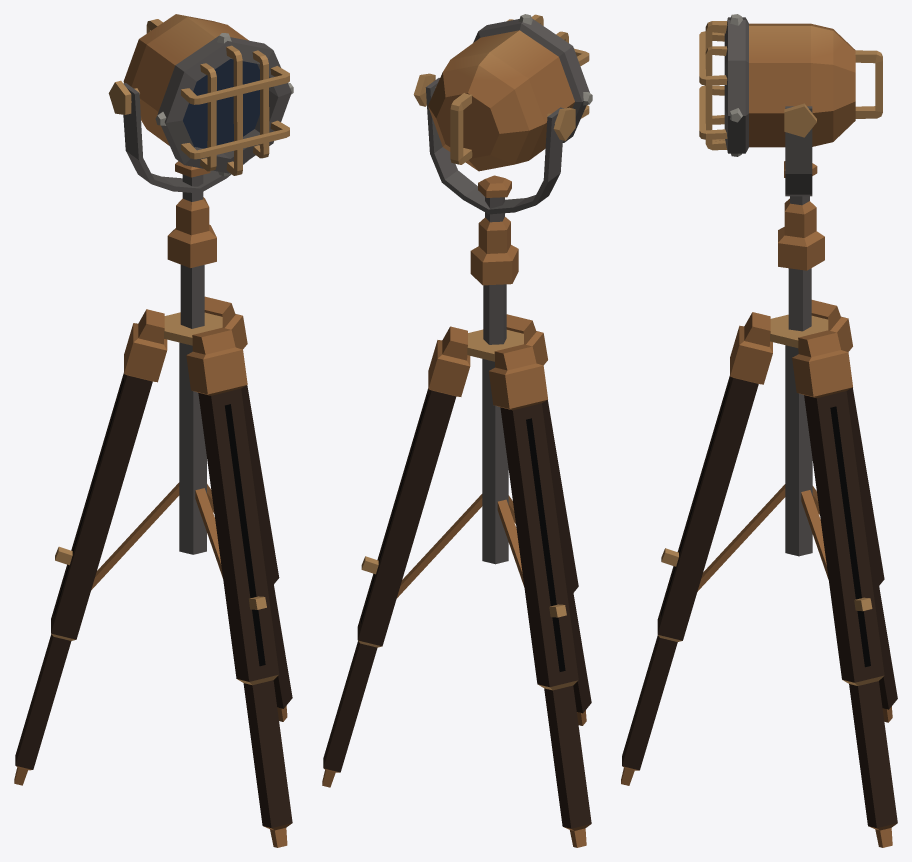
Rendered from lamp-floor-steampunk-b.fbx.
The picture shows the model from 3 angles, left to right: view 1: azimuth 30°, elevation 25°; view 2: azimuth 150°, elevation 25°; view 3: azimuth 270°, elevation 25°; orthographic projection. The views are drawn at different scales.
Parts seen in each view (by area): view 1: lamp_floor_steampunk_b; view 2: lamp_floor_steampunk_b; view 3: lamp_floor_steampunk_b.
Part boxes in pixels (<box>): lamp_floor_steampunk_b: <box>14,14,293,847</box>; lamp_floor_steampunk_b: <box>322,14,592,847</box>; lamp_floor_steampunk_b: <box>621,14,897,847</box>.
Size of the model in its own units: 56.43 by 150 by 49.05.
2 materials, 2 textured.
